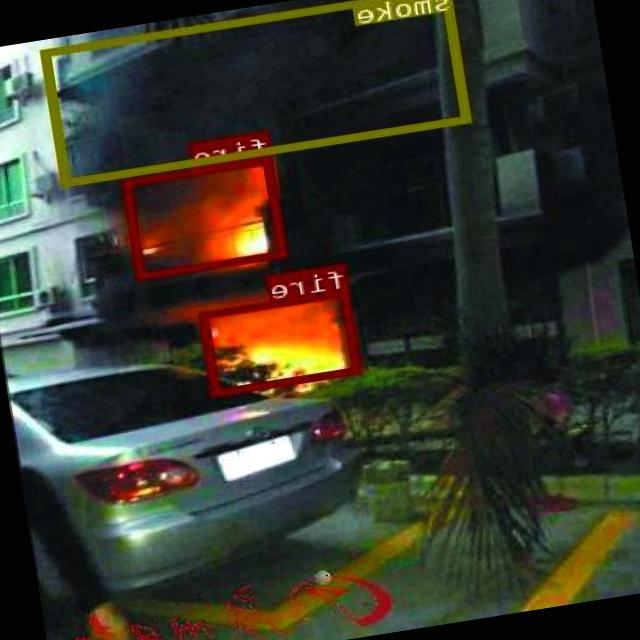fire: (122, 156, 288, 279), (201, 288, 364, 396)
smoke: (42, 0, 472, 185)
